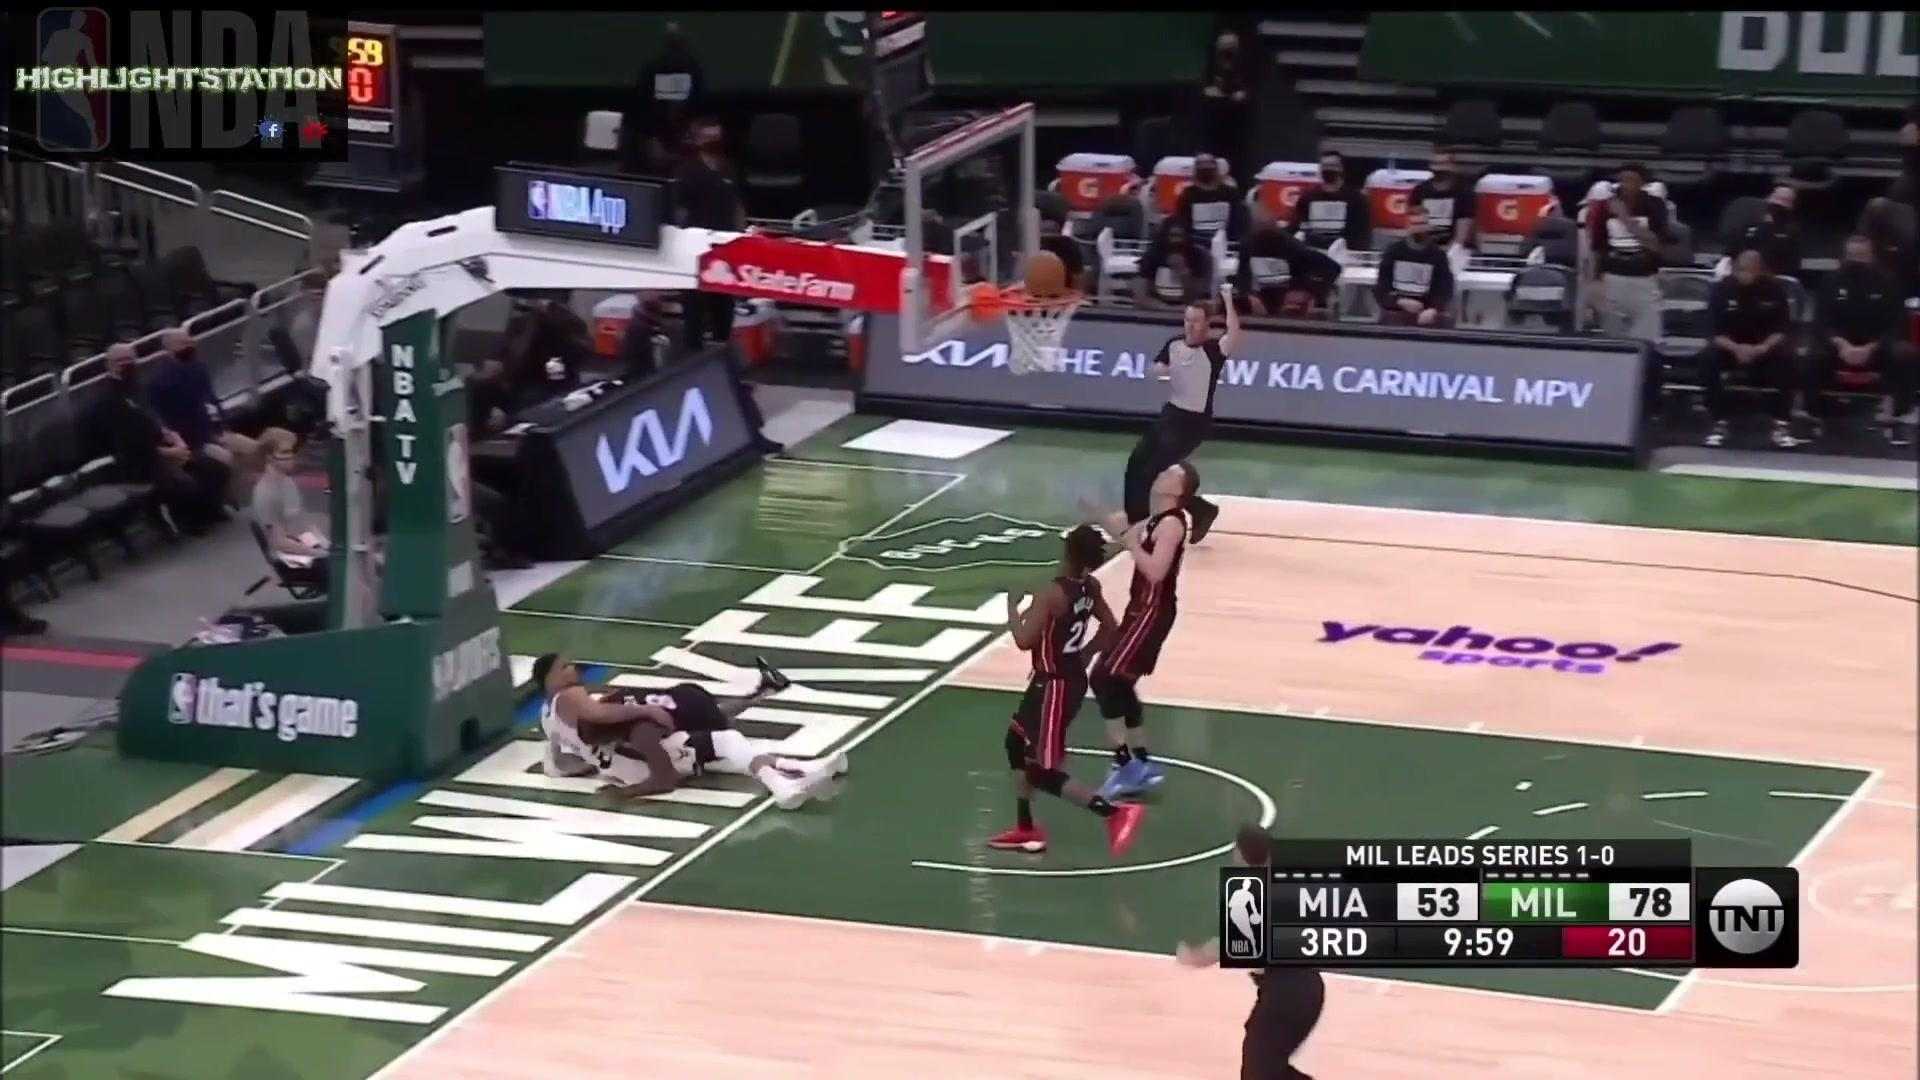foul: (514, 621, 843, 824)
